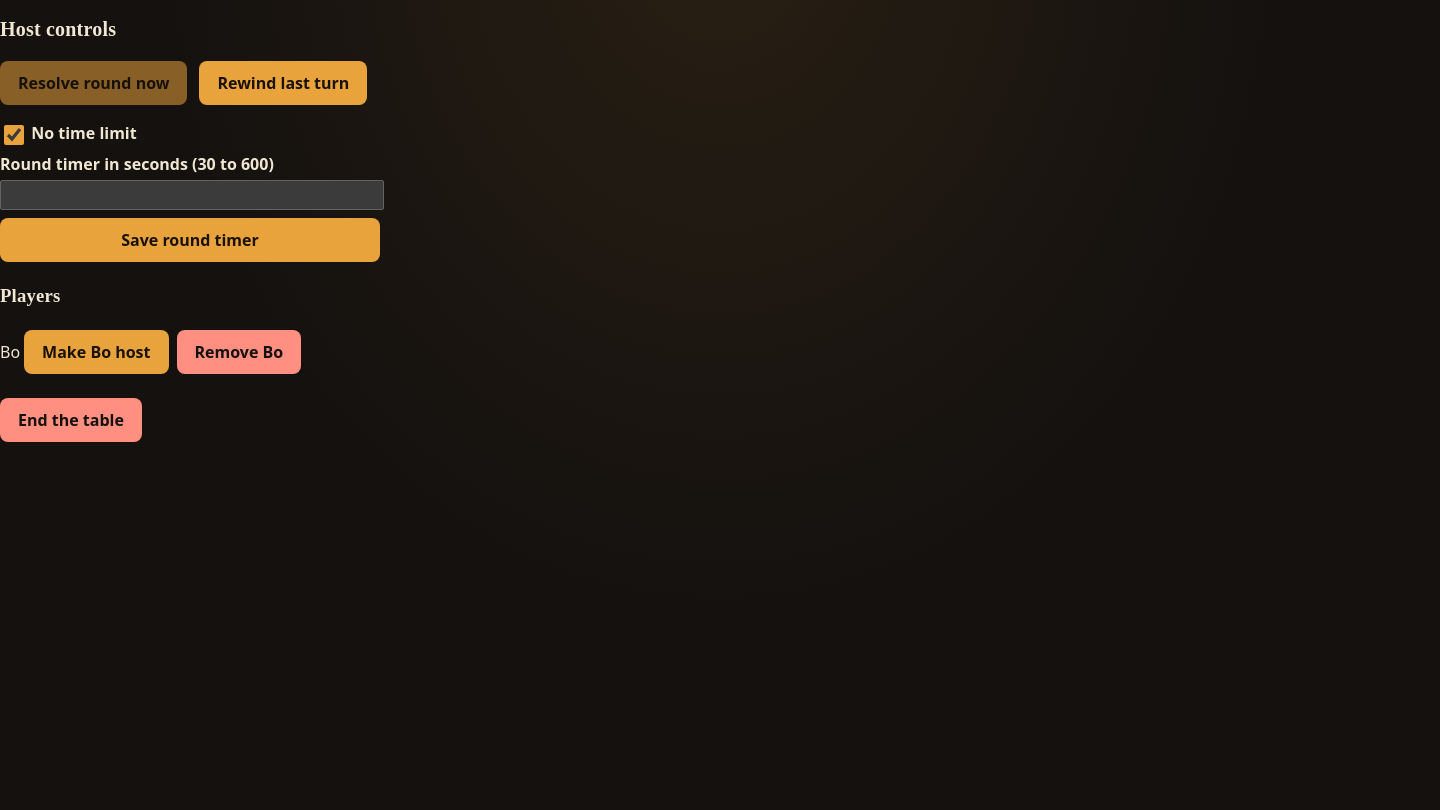
Test: HostControls › sends KickSeat when the removal is confirmed
Click the button "Remove Bo" at [239, 352], box [176,330,301,374]
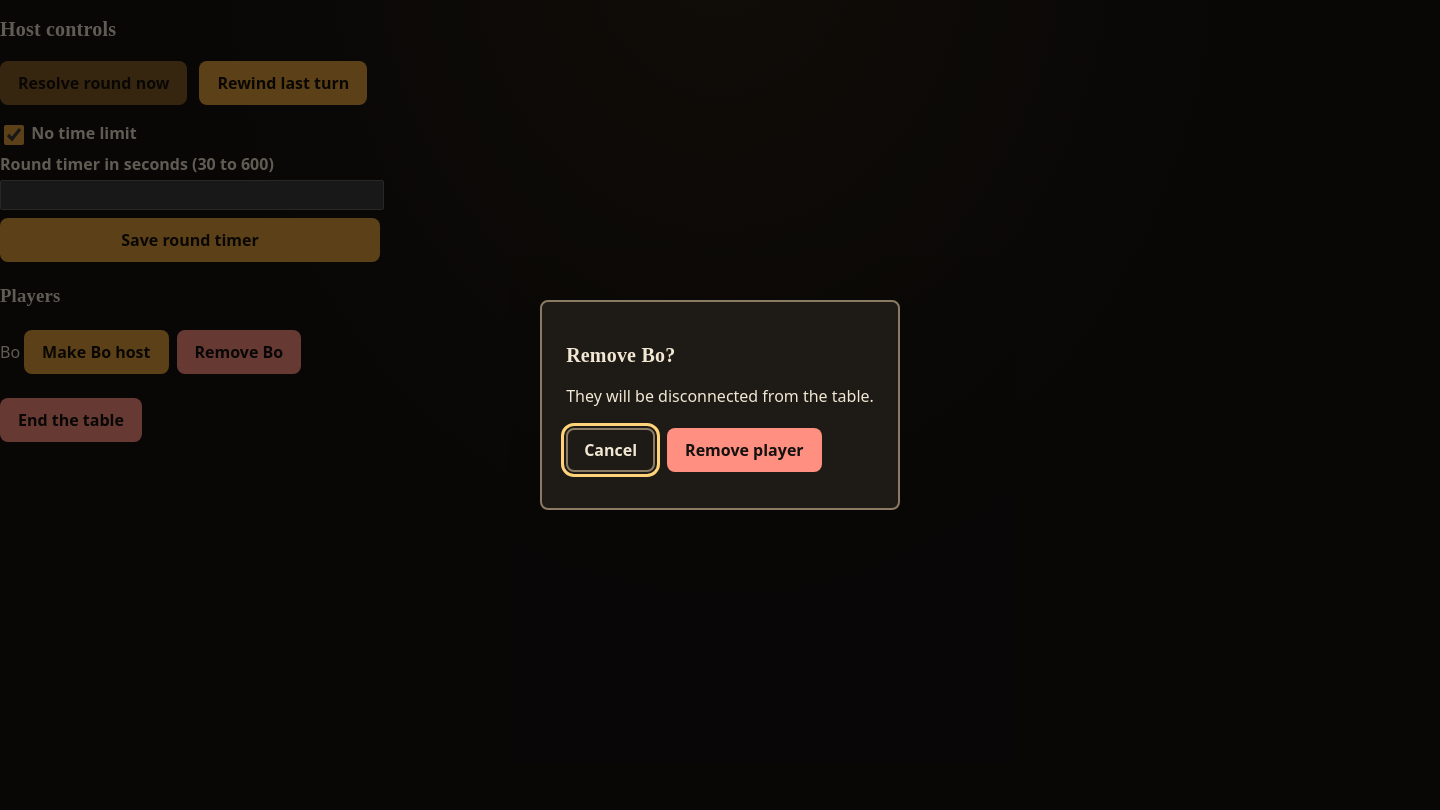
Click the button "Remove player" at [744, 450], box [667,428,822,472]
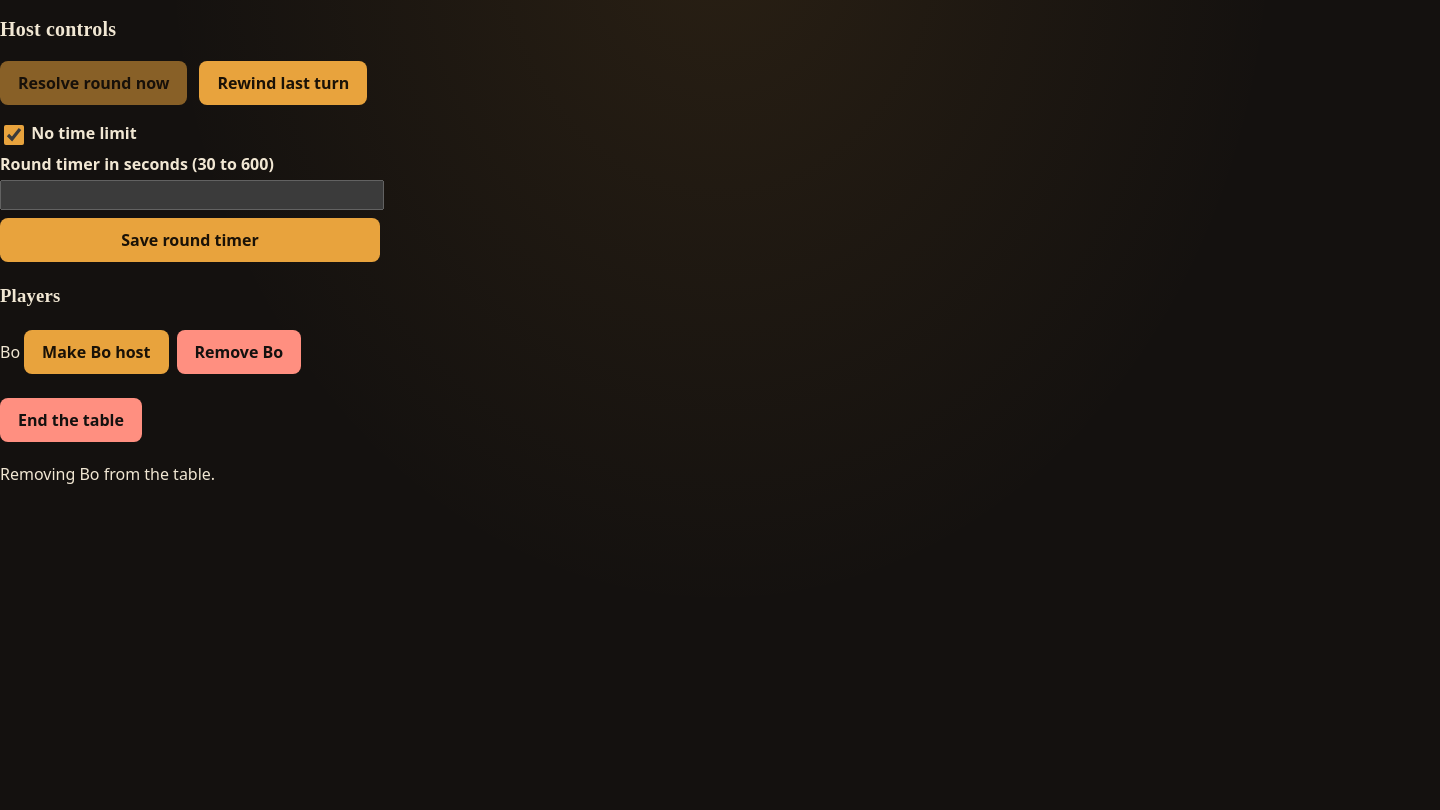
Expected: the message shows "Removing Bo", [0,463,215,485]
